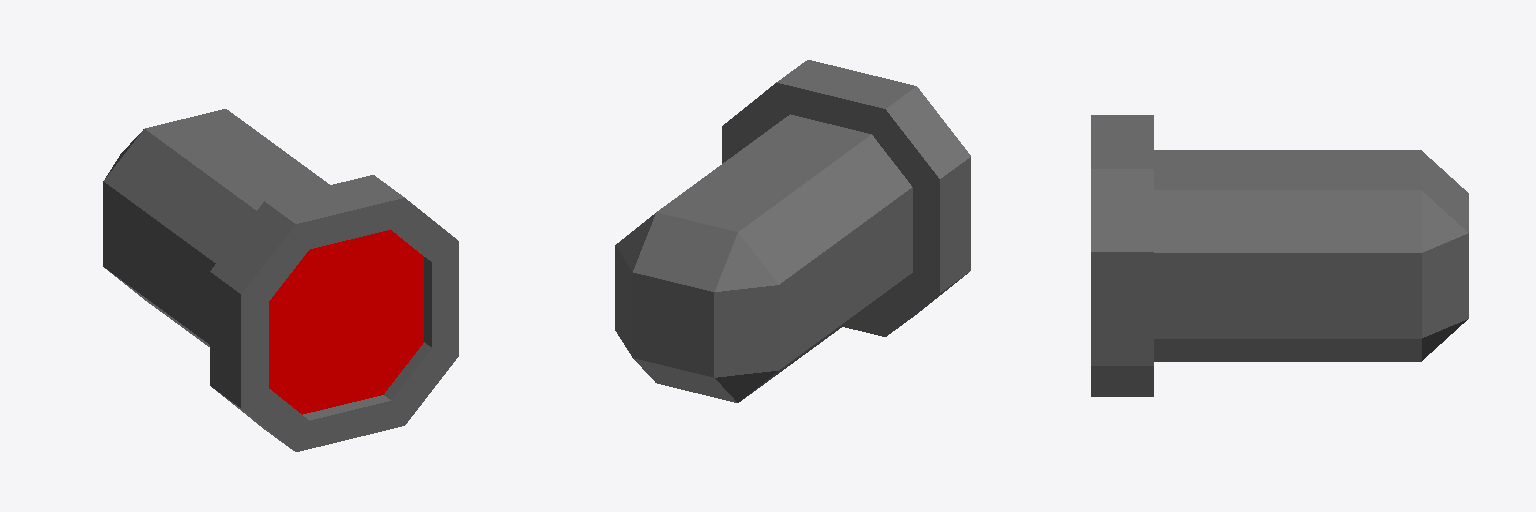
The model's file is pipe_connector.obj.
The picture shows the model from 3 angles: view 1: azimuth 30°, elevation 25°; view 2: azimuth 150°, elevation 25°; view 3: azimuth 270°, elevation 25°; orthographic projection.
Bounding box in the file's own units: 0.6666 × 0.6666 × 1.